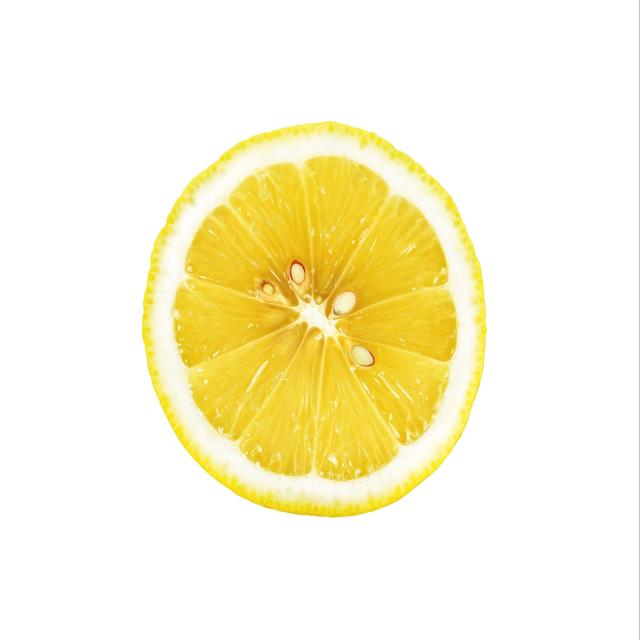lemon: (136, 116, 492, 524)
